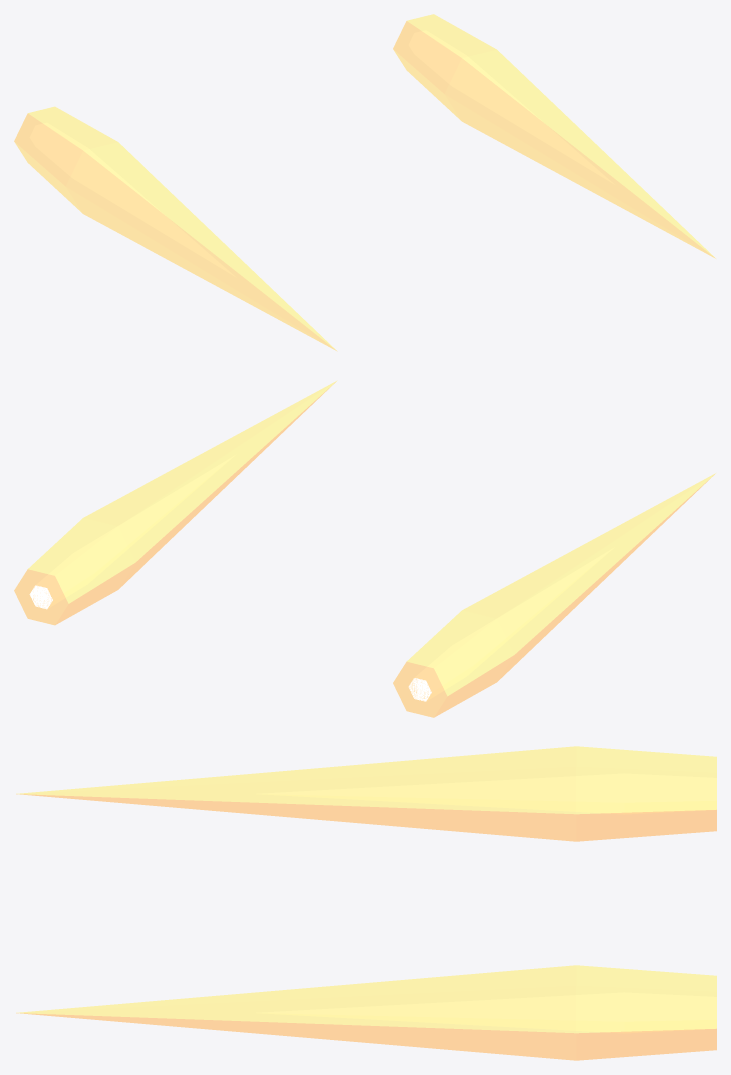
File: airliner-boost.glb
3 views of the same model, one above another, from view 1: azimuth 30°, elevation 25°; view 2: azimuth 150°, elevation 25°; view 3: azimuth 270°, elevation 25° (orthographic). The views are drawn at different scales.
Visible parts, largest first — view 1: toy airliner twin turbo; view 2: toy airliner twin turbo; view 3: toy airliner twin turbo.
Boxes of the visible parts, x1,y1,x2,y2 form: toy airliner twin turbo: (14,14,715,350); toy airliner twin turbo: (14,381,715,717); toy airliner twin turbo: (16,746,716,1060).
Size of the model in its own units: 3.23 by 0.4365 by 3.7.
